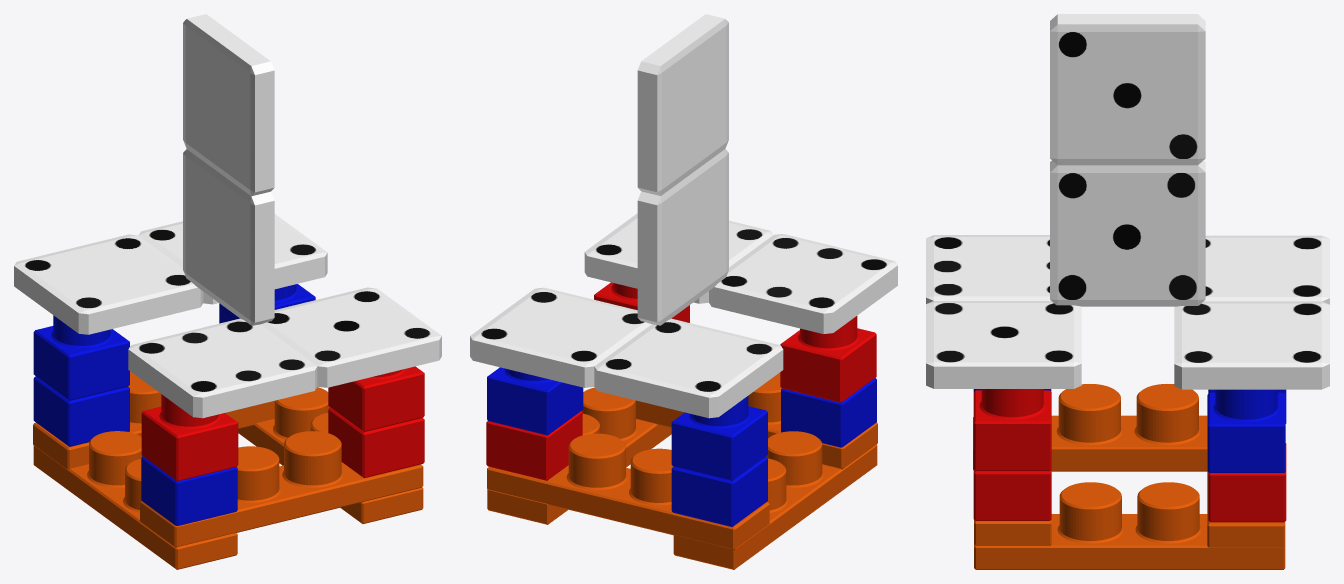
3 renders of one model, left to right at view 1: azimuth 30°, elevation 25°; view 2: azimuth 150°, elevation 25°; view 3: azimuth 270°, elevation 25°, orthographic. The views are drawn at different scales.
Parts seen in each view (by area): view 1: Dom.212_low_0.002, Dom.303_low_2.002, Dom.202_low_2, Cube.041, Cube.046, Cube.047, Cube.038, Cube.044, Cube.039, Cube.042, Cube.040, Cube.043; view 2: Dom.212_low_0.002, Dom.202_low_2, Dom.303_low_2.002, Cube.040, Cube.046, Cube.038, Cube.044, Cube.039, Cube.043, Cube.042, Cube.045, Cube.041 (+1 smaller); view 3: Dom.212_low_0.002, Dom.202_low_2, Dom.303_low_2.002, Cube.039, Cube.038, Cube.047, Cube.043, Cube.045, Cube.040, Cube.041.
Boxes of the visible parts, <box> form: Dom.212_low_0.002: <box>183,14,274,325</box>; Dom.303_low_2.002: <box>128,287,441,418</box>; Dom.202_low_2: <box>14,214,327,334</box>; Cube.041: <box>140,431,423,547</box>; Cube.046: <box>33,315,129,446</box>; Cube.047: <box>328,366,424,477</box>; Cube.038: <box>33,431,237,569</box>; Cube.044: <box>141,394,238,481</box>; Cube.039: <box>238,387,423,523</box>; Cube.042: <box>141,456,237,526</box>; Cube.040: <box>33,371,274,469</box>; Cube.043: <box>219,284,315,323</box>; Dom.212_low_0.002: <box>637,14,728,325</box>; Dom.202_low_2: <box>470,287,783,418</box>; Dom.303_low_2.002: <box>584,213,897,333</box>; Cube.040: <box>487,433,769,549</box>; Cube.046: <box>671,396,767,526</box>; Cube.038: <box>673,431,877,569</box>; Cube.044: <box>780,316,876,402</box>; Cube.039: <box>487,387,671,524</box>; Cube.043: <box>487,367,583,435</box>; Cube.042: <box>781,378,876,447</box>; Cube.045: <box>486,411,582,480</box>; Cube.041: <box>636,372,877,469</box>; Dom.212_low_0.002: <box>1050,14,1205,306</box>; Dom.202_low_2: <box>1174,235,1329,389</box>; Dom.303_low_2.002: <box>926,235,1081,388</box>; Cube.039: <box>974,482,1285,569</box>; Cube.038: <box>973,384,1207,471</box>; Cube.047: <box>973,389,1051,520</box>; Cube.043: <box>1207,389,1285,473</box>; Cube.045: <box>1208,443,1286,522</box>; Cube.040: <box>1207,395,1285,547</box>; Cube.041: <box>974,519,1051,545</box>.
Bounding box in the file's own units: 4.03 × 6.89 × 5.19.
10 materials, 5 textured.
